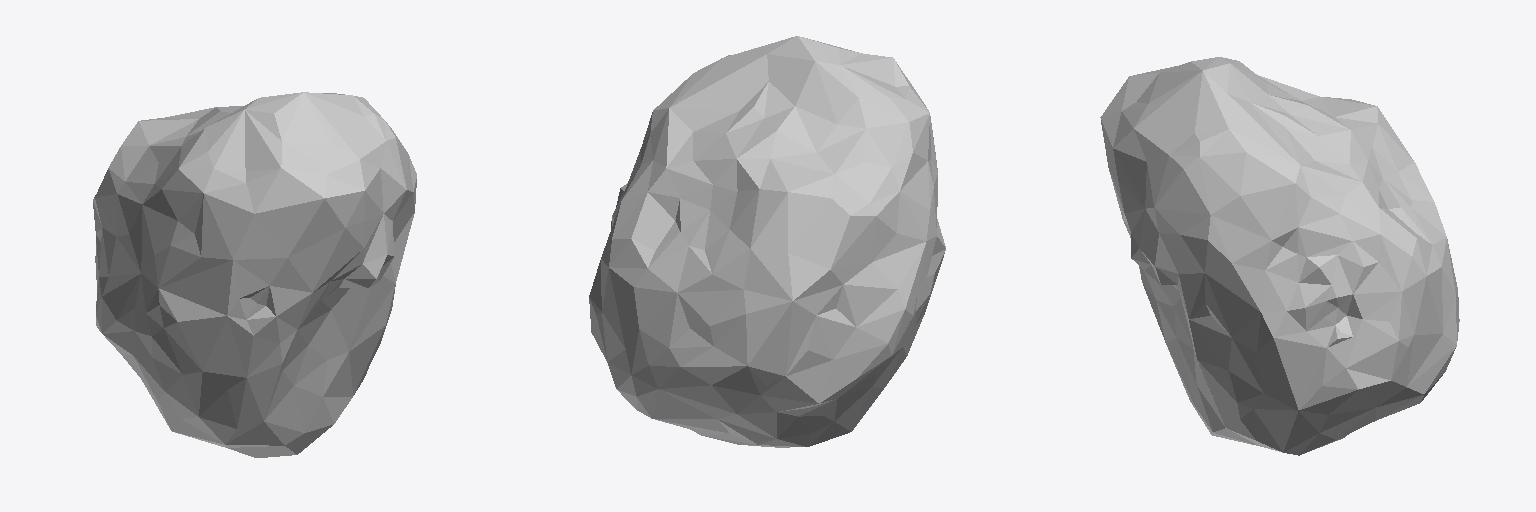
The model's file is rock_1.obj.
The picture shows the model from 3 angles: view 1: azimuth 30°, elevation 25°; view 2: azimuth 150°, elevation 25°; view 3: azimuth 270°, elevation 25°; orthographic projection.
Parts seen in each view (by area): view 1: RockLP_Rock_MAT_0; view 2: RockLP_Rock_MAT_0; view 3: RockLP_Rock_MAT_0.
Boxes of the visible parts, x1=… form: RockLP_Rock_MAT_0: x1=93, y1=92, x2=416, y2=457; RockLP_Rock_MAT_0: x1=589, y1=36, x2=945, y2=447; RockLP_Rock_MAT_0: x1=1100, y1=57, x2=1459, y2=455.
Size of the model in its own units: 4.5 by 5.6 by 4.8.